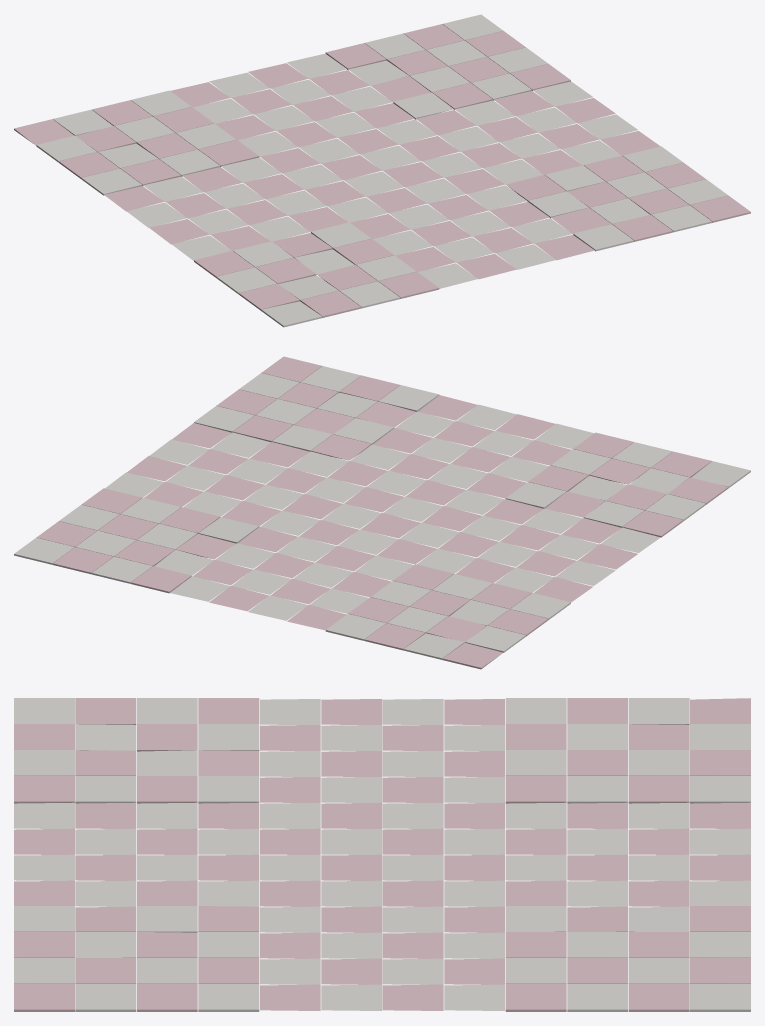
File: home_floor_tiles__pink_low.glb
3 views of the same model, one above another, from view 1: azimuth 30°, elevation 25°; view 2: azimuth 150°, elevation 25°; view 3: azimuth 270°, elevation 25° (orthographic). The views are drawn at different scales.
Size of the model in its own units: 11.99 by 0.0401 by 11.99.
